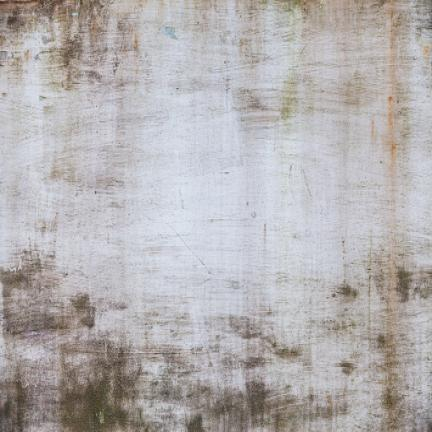besi_tidak_karat: (0, 99, 431, 231)
karat: (0, 0, 114, 80)
